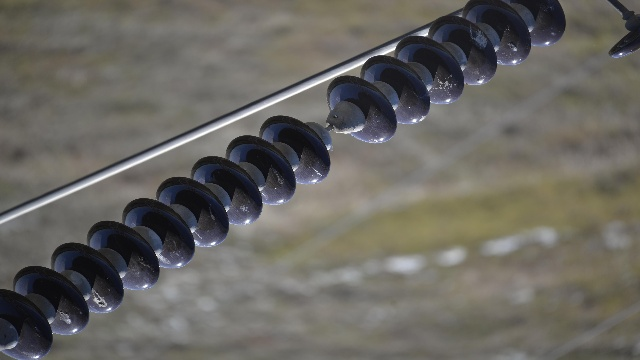broken_local: (311, 119, 342, 154)
insulator_unspecified: (1, 0, 567, 359), (605, 24, 639, 58)
